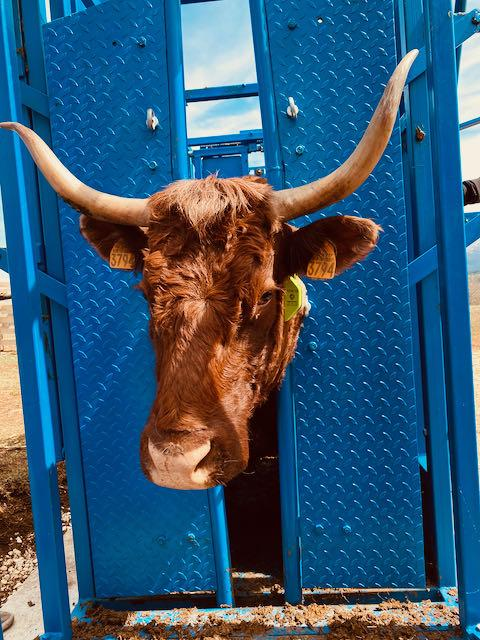muzzles: (133, 430, 251, 496)
